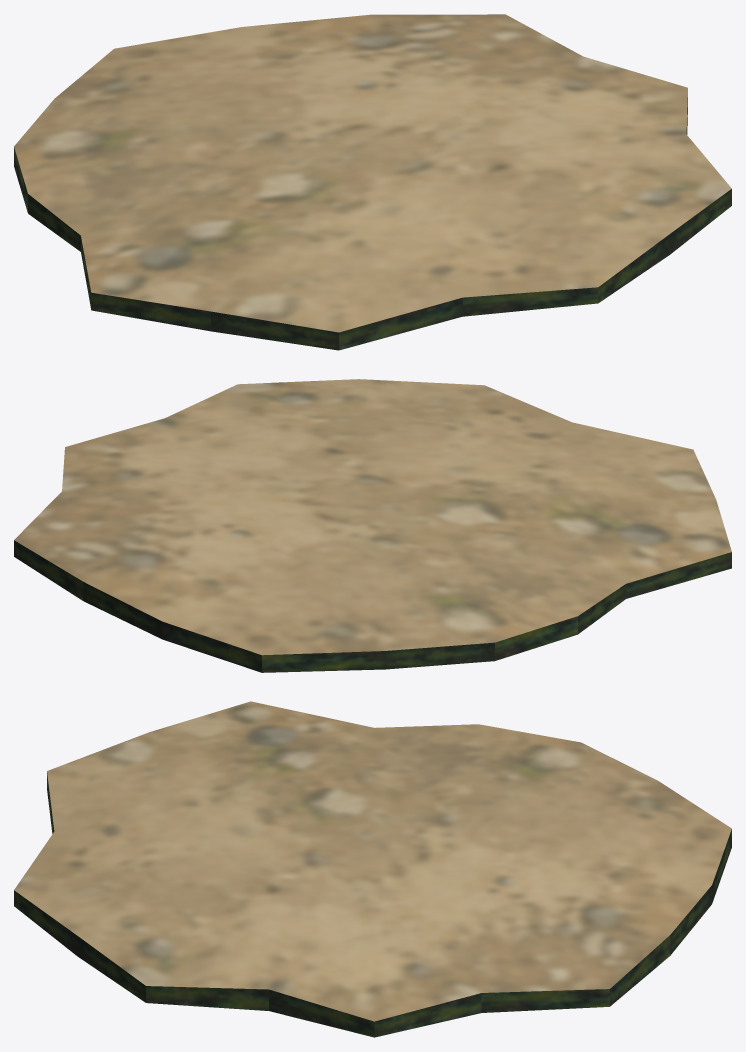
Rendered from Ground_Dirt_B.glb.
3 views of the same model, one above another, from view 1: azimuth 30°, elevation 25°; view 2: azimuth 150°, elevation 25°; view 3: azimuth 270°, elevation 25° (orthographic). The views are drawn at different scales.
Parts seen in each view (by area): view 1: Ground_Dirt_B; view 2: Ground_Dirt_B; view 3: Ground_Dirt_B.
Part boxes in pixels (<box>): Ground_Dirt_B: <box>14,14,731,350</box>; Ground_Dirt_B: <box>14,379,731,672</box>; Ground_Dirt_B: <box>14,701,731,1037</box>.
Size of the model in its own units: 3.89 by 0.19 by 3.7.
1 material, 1 textured.
